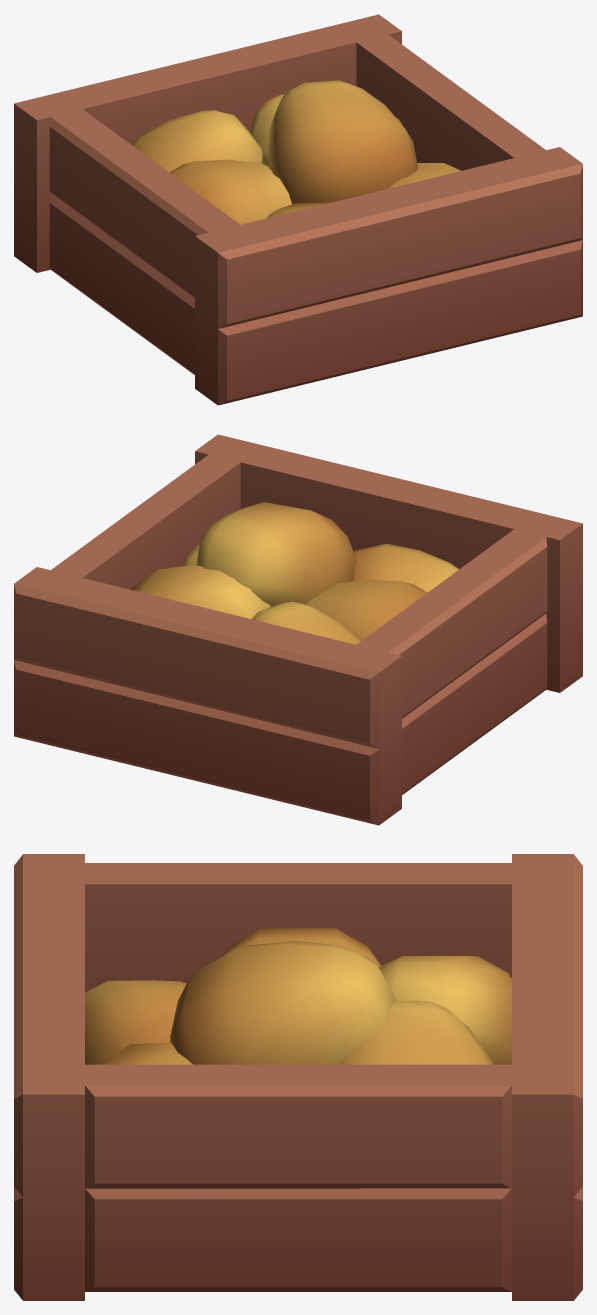
File: supply_potatoes.glb
3 views of the same model, one above another, from view 1: azimuth 30°, elevation 25°; view 2: azimuth 150°, elevation 25°; view 3: azimuth 270°, elevation 25° (orthographic). The views are drawn at different scales.
Parts seen in each view (by area): view 1: crate_potatoes; view 2: crate_potatoes; view 3: crate_potatoes.
Boxes of the visible parts, <box> form: crate_potatoes: <box>14,14,582,405</box>; crate_potatoes: <box>14,434,582,825</box>; crate_potatoes: <box>14,854,582,1300</box>.
Size of the model in its own units: 2 by 0.9659 by 2.
Materials: 1 (1 with a texture image).
